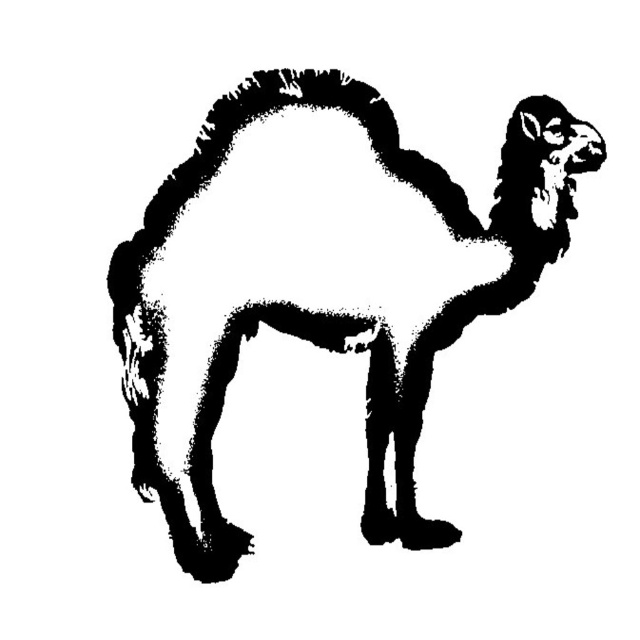Camel: (106, 68, 608, 584)
